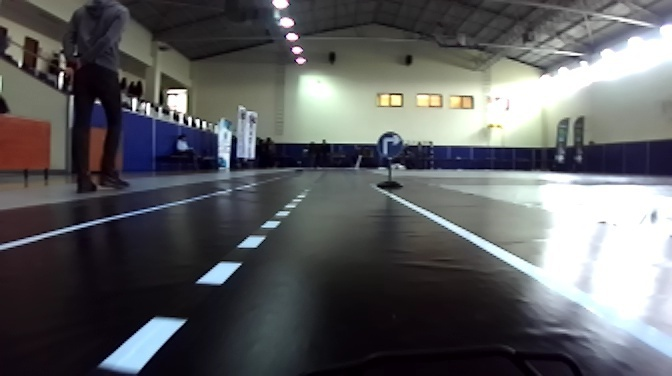saga_donus: (375, 132, 402, 159)
